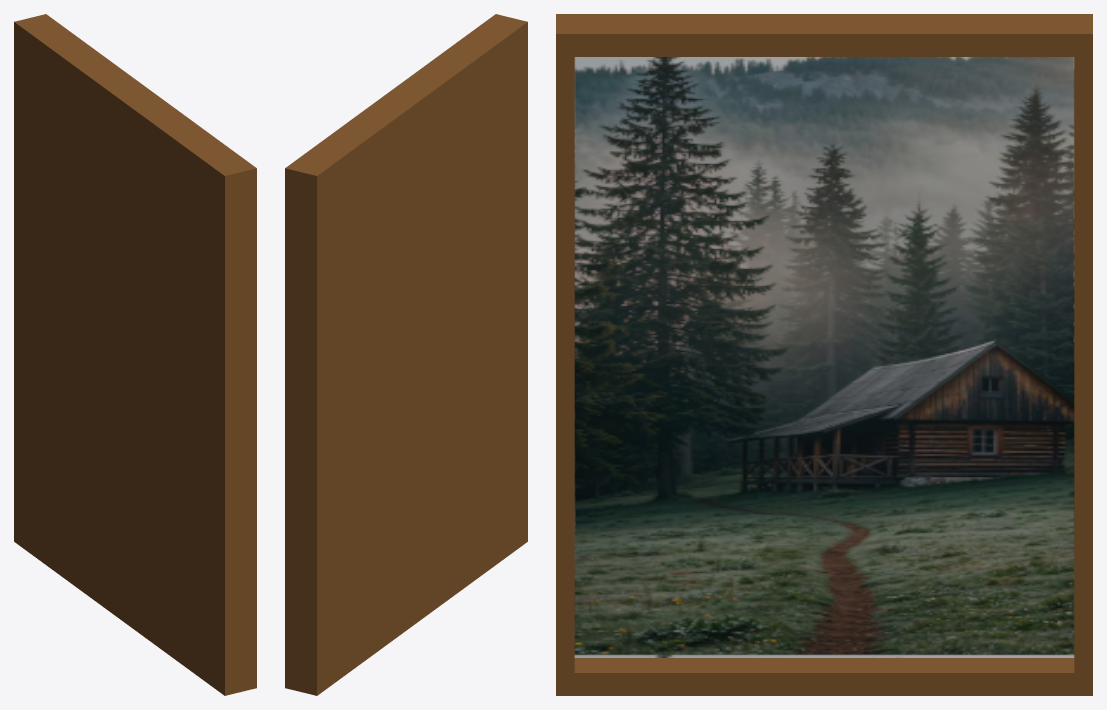
File: cuadro1.fbx
3 views of the same model, side by side, from view 1: azimuth 30°, elevation 25°; view 2: azimuth 150°, elevation 25°; view 3: azimuth 270°, elevation 25° (orthographic). The views are drawn at different scales.
Parts seen in each view (by area): view 1: Cube; view 2: Cube; view 3: Cube.
Part boxes in pixels (x1,y1,x2,y2): Cube: (14,14,256,695); Cube: (285,14,527,695); Cube: (556,14,1092,695).
Size of the model in its own units: 17.58 by 272 by 200.
2 materials, 1 textured.
